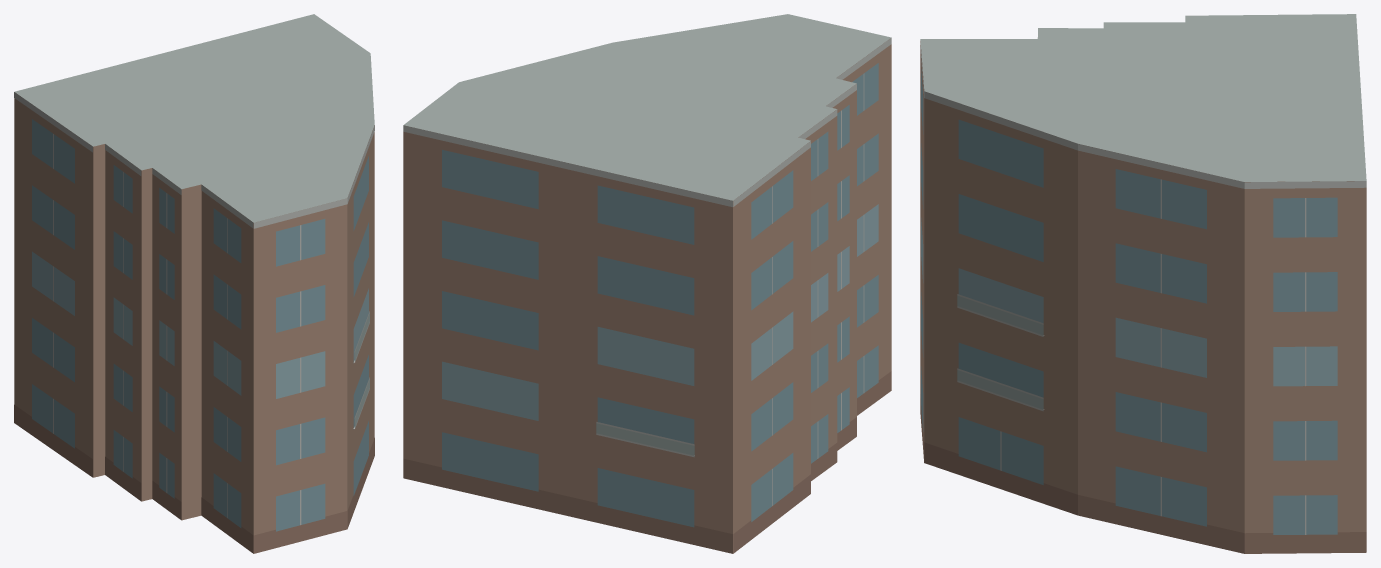
Rendered from survey-upis-32886736.glb.
3 renders of one model, left to right at view 1: azimuth 30°, elevation 25°; view 2: azimuth 150°, elevation 25°; view 3: azimuth 270°, elevation 25°, orthographic. The views are drawn at different scales.
Visible parts, largest first — view 1: survey-upis-32886736.tmp; view 2: survey-upis-32886736.tmp; view 3: survey-upis-32886736.tmp.
Boxes of the visible parts, x1,y1,x2,y2 form: survey-upis-32886736.tmp: [14, 14, 374, 553]; survey-upis-32886736.tmp: [403, 14, 891, 553]; survey-upis-32886736.tmp: [920, 14, 1366, 553].
Bounding box in the file's own units: 12.81 × 13.2 × 14.37.
